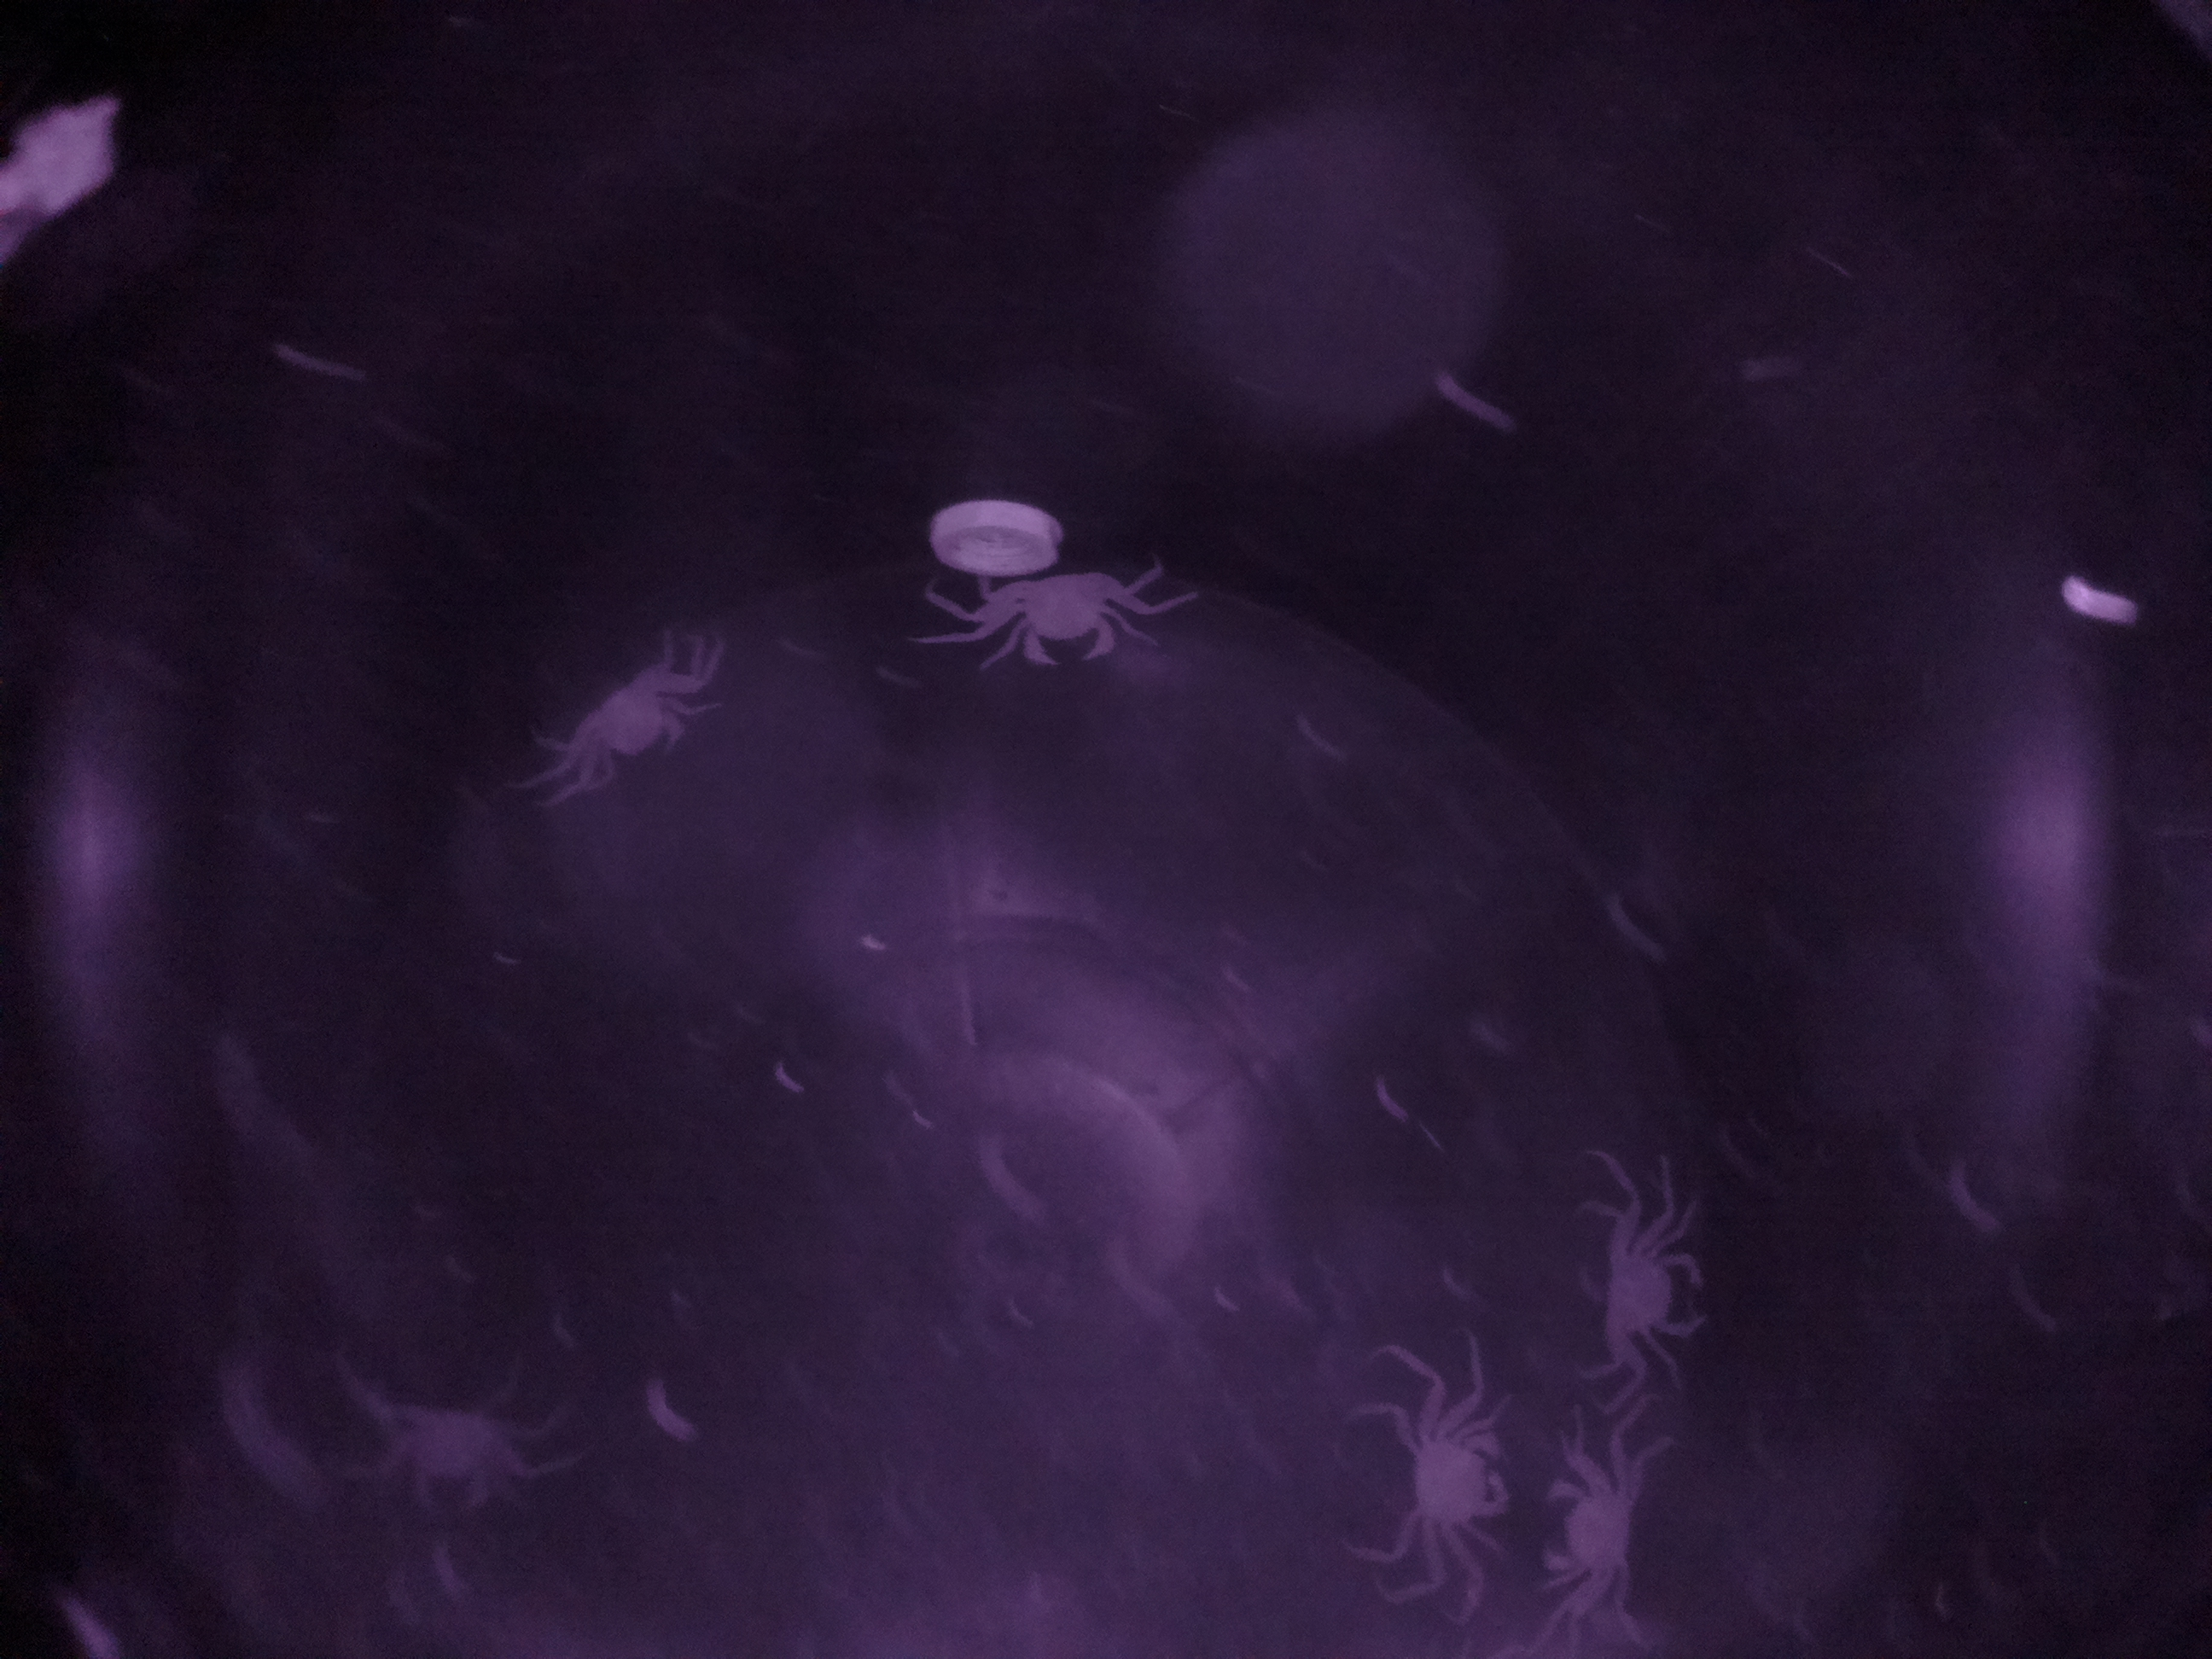Crab: (1580, 1188, 1731, 1375), (1392, 1375, 1515, 1577), (550, 643, 714, 795), (1540, 1432, 1660, 1638), (993, 544, 1139, 681)
